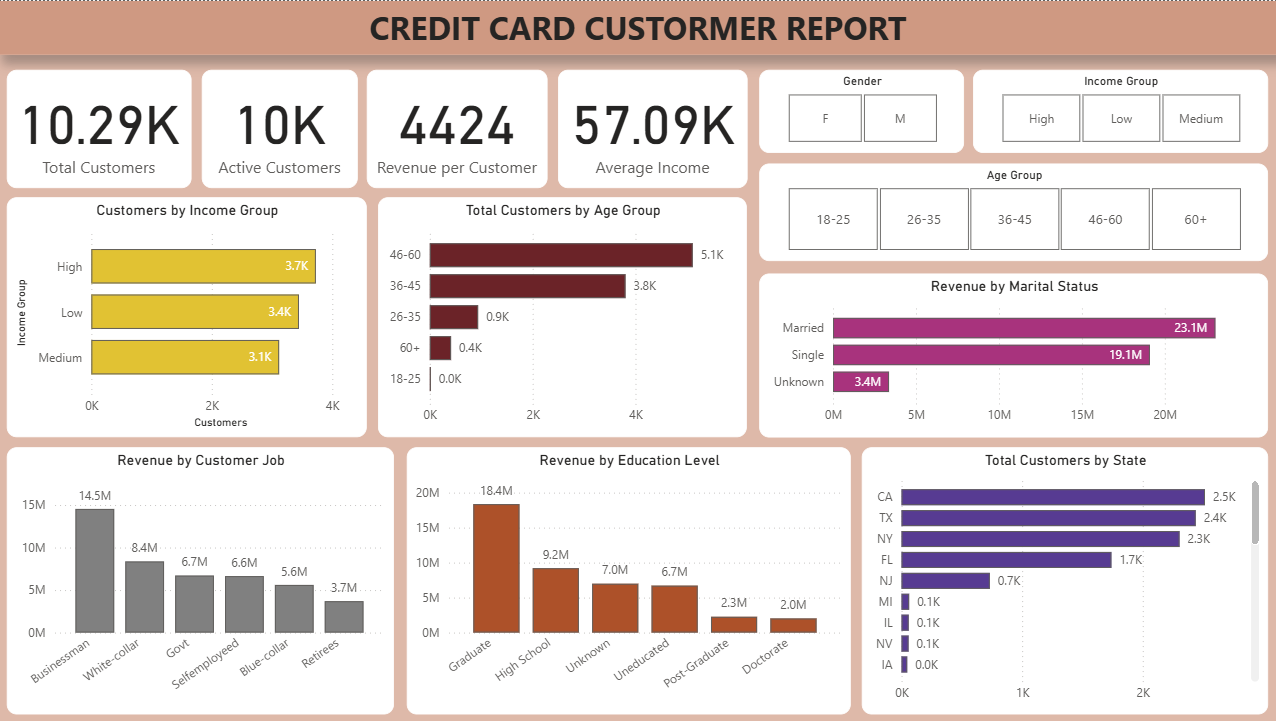

Layout of this report page (visuals, bound fields, positions):
{"tool":"powerbi","page":{"name":"Credit Card Customer","canvas":[1280,720],"ordinal":0},"visuals":[{"type":"textbox","box":[0,0,1280,53.5],"z":0},{"type":"card","fields":{"Values":["CreditCard.Active Customers"]},"box":[203.9,68.8,155.8,118.2],"z":1},{"type":"card","fields":{"Values":["CountNonNull(customer.CustomerID)"]},"box":[9.1,68.8,184.4,118.2],"z":2},{"type":"card","fields":{"Values":["Avg(customer.Income)"]},"box":[559.7,68.8,189.6,118.2],"z":3},{"type":"card","fields":{"Values":["customer.Revenue per customer"]},"box":[368.8,68.8,180.5,118.2],"z":4},{"type":"slicer","title":"Gender","fields":{"Values":["customer.Gender"]},"box":[761,68.8,205.2,83.1],"z":5},{"type":"slicer","title":"Age Group","fields":{"Values":["customer.Age_Group"]},"box":[761,162.3,509.1,97.4],"z":6},{"type":"slicer","title":"Income Group","fields":{"Values":["customer.Income_Group"]},"box":[975.3,68.8,294.8,83.1],"z":7},{"type":"clusteredBarChart","title":"Customers by Income Group","fields":{"Y":["CountNonNull(customer.CustomerID)"],"Category":["customer.Income_Group"]},"box":[9.1,196.1,359.7,240.3],"z":8},{"type":"clusteredBarChart","title":"Total Customers by Age Group","fields":{"Y":["CountNonNull(customer.CustomerID)"],"Category":["customer.Age_Group"]},"box":[380.5,196.1,368.8,240.3],"z":9},{"type":"columnChart","title":"Revenue by Education Level","fields":{"Category":["customer.Education_Level"],"Y":["CreditCard.Total Revenue"]},"box":[409.1,446.8,444.2,267.5],"z":10},{"type":"clusteredColumnChart","title":"Revenue by Customer Job","fields":{"Category":["customer.Customer_Job"],"Y":["CreditCard.Total Revenue"]},"box":[9.1,446.8,387,267.5],"z":11},{"type":"clusteredBarChart","title":"Revenue by Marital Status","fields":{"Category":["customer.Marital_Status"],"Y":["CreditCard.Total Revenue"]},"box":[761,272.7,509.1,163.6],"z":12},{"type":"clusteredBarChart","title":"Total Customers by State","fields":{"Category":["customer.state_cd"],"Y":["CountNonNull(customer.CustomerID)"]},"box":[863.6,446.8,406.5,267.5],"z":13}]}

Visuals, with their boxes in screenshot pixels (x1, y1, x2, y2), scaled from the page's 1280x720 canvas onto the 1276x721 screenshot:
textbox: box=[0, 0, 1275, 54]
card - CreditCard.Active Customers: box=[203, 69, 359, 187]
card - CountNonNull(customer.CustomerID): box=[9, 69, 193, 187]
card - Avg(customer.Income): box=[558, 69, 747, 187]
card - customer.Revenue per customer: box=[368, 69, 548, 187]
"Gender" slicer: box=[759, 69, 963, 152]
"Age Group" slicer: box=[759, 163, 1266, 260]
"Income Group" slicer: box=[972, 69, 1266, 152]
"Customers by Income Group" clusteredBarChart: box=[9, 196, 368, 437]
"Total Customers by Age Group" clusteredBarChart: box=[379, 196, 747, 437]
"Revenue by Education Level" columnChart: box=[408, 447, 851, 715]
"Revenue by Customer Job" clusteredColumnChart: box=[9, 447, 395, 715]
"Revenue by Marital Status" clusteredBarChart: box=[759, 273, 1266, 437]
"Total Customers by State" clusteredBarChart: box=[861, 447, 1266, 715]
